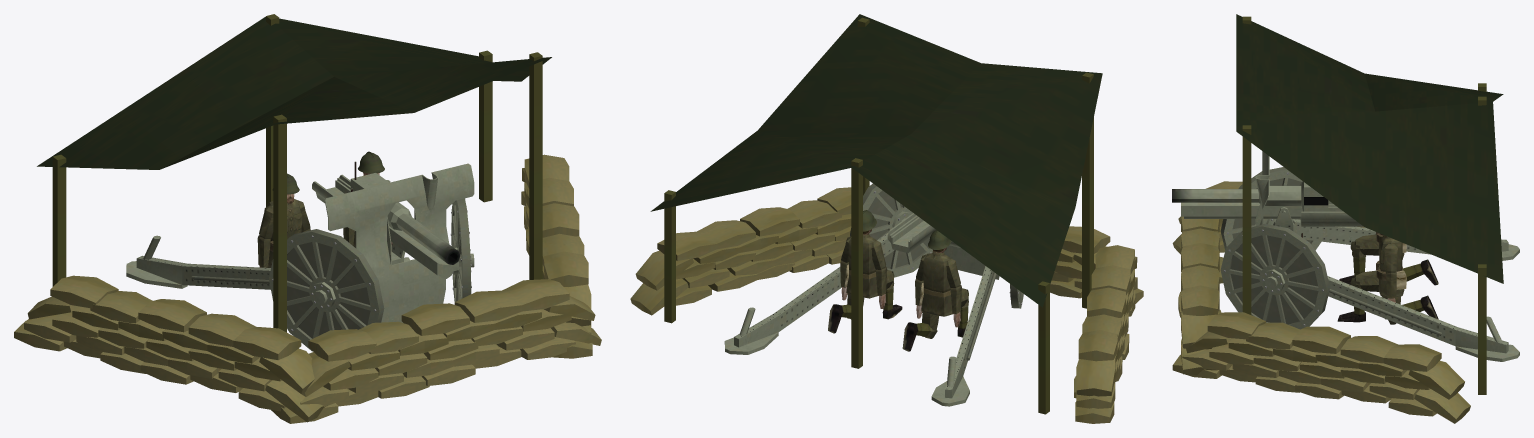
File: FRA105mmMle1935B_stationary.dae
The picture shows the model from 3 angles, left to right: view 1: azimuth 30°, elevation 25°; view 2: azimuth 150°, elevation 25°; view 3: azimuth 270°, elevation 25°; orthographic projection. The views are drawn at different scales.
Visible parts, largest first — view 1: base, carriage, wheel2, trail2, barrel, sleeve, wheel1, torso2; view 2: base, trail1, trail2, wheel1, torso2, sleeve, torso1, carriage; view 3: base, wheel1, trail1, sleeve, barrel, trail2, wheel2, torso1, carriage, rthigh2, rthigh1, rleg2 (+1 smaller).
Boxes of the visible parts, box(x1,y1,x2,y2) form: base: box(14, 14, 601, 423); carriage: box(325, 163, 474, 322); wheel2: box(269, 229, 384, 351); trail2: box(126, 235, 270, 289); barrel: box(350, 161, 460, 264); sleeve: box(312, 174, 458, 278); wheel1: box(450, 198, 474, 301); torso2: box(267, 199, 302, 267); base: box(630, 14, 1143, 423); trail1: box(724, 218, 904, 354); trail2: box(931, 266, 996, 406); wheel1: box(850, 183, 932, 277); torso2: box(919, 251, 953, 316); sleeve: box(887, 213, 935, 252); torso1: box(844, 234, 878, 298); carriage: box(904, 218, 999, 279); base: box(1172, 14, 1503, 423); wheel1: box(1220, 223, 1329, 329); trail1: box(1327, 276, 1519, 361); sleeve: box(1181, 200, 1363, 226); barrel: box(1172, 181, 1328, 211); trail2: box(1273, 219, 1519, 260); wheel2: box(1220, 167, 1321, 250); torso1: box(1376, 235, 1406, 297); carriage: box(1255, 151, 1269, 226); rthigh2: box(1354, 234, 1378, 255); rthigh1: box(1354, 270, 1378, 291); rleg2: box(1350, 241, 1366, 277).
Bounding box in the file's own units: 51.33 × 32.5 × 24.67.
Materials: 1 (1 with a texture image).
